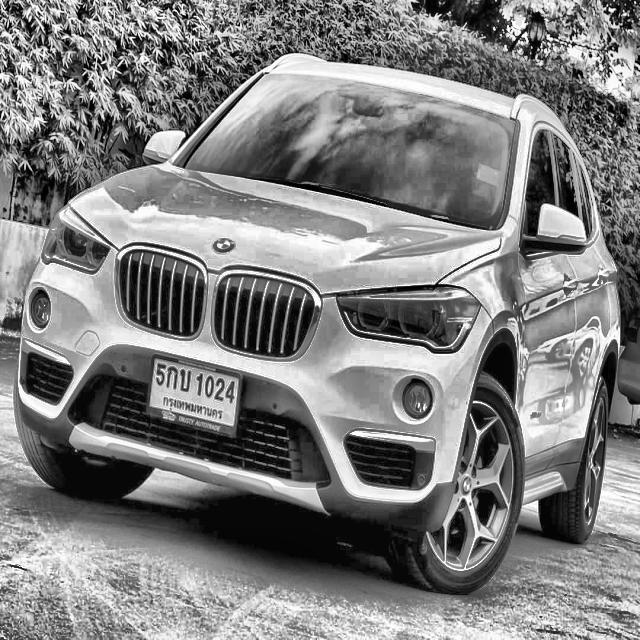license-plate: (145, 347, 245, 439)
